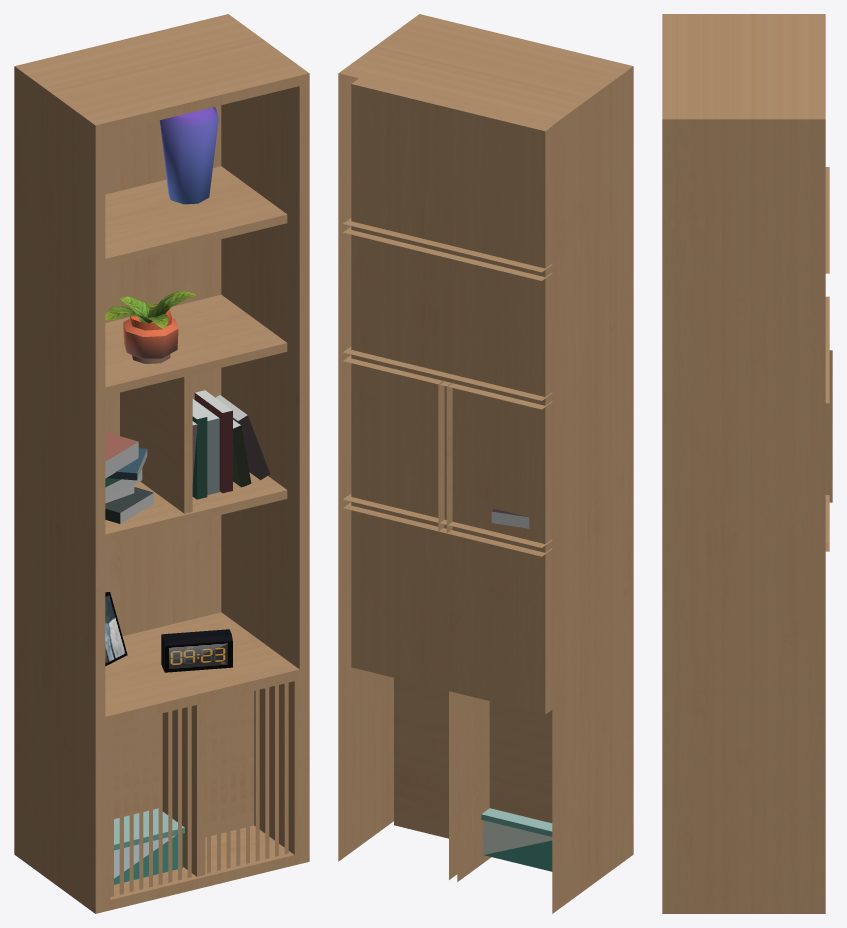
Rendered from M_qiangjiaogui03.FBX.
3 views of the same model, side by side, from view 1: azimuth 30°, elevation 25°; view 2: azimuth 150°, elevation 25°; view 3: azimuth 270°, elevation 25° (orthographic).
Visible parts, largest first — view 1: M_qiangjiaogui03_01, M_qiangjiaogui03_02, M_qiangjiaogui03_03, M_qiangjiaogui03_05, M_qiangjiaogui03_04; view 2: M_qiangjiaogui03_01, M_qiangjiaogui03_02; view 3: M_qiangjiaogui03_01.
Boxes of the visible parts, bbox=[...] form: M_qiangjiaogui03_01: bbox=[14, 14, 309, 913]; M_qiangjiaogui03_02: bbox=[105, 390, 269, 884]; M_qiangjiaogui03_03: bbox=[123, 107, 218, 363]; M_qiangjiaogui03_05: bbox=[105, 592, 232, 672]; M_qiangjiaogui03_04: bbox=[105, 291, 196, 328]; M_qiangjiaogui03_01: bbox=[338, 14, 633, 913]; M_qiangjiaogui03_02: bbox=[481, 509, 552, 871]; M_qiangjiaogui03_01: bbox=[662, 14, 832, 913].
Bounding box in the file's own units: 1.1 × 3.88 × 0.7538.
